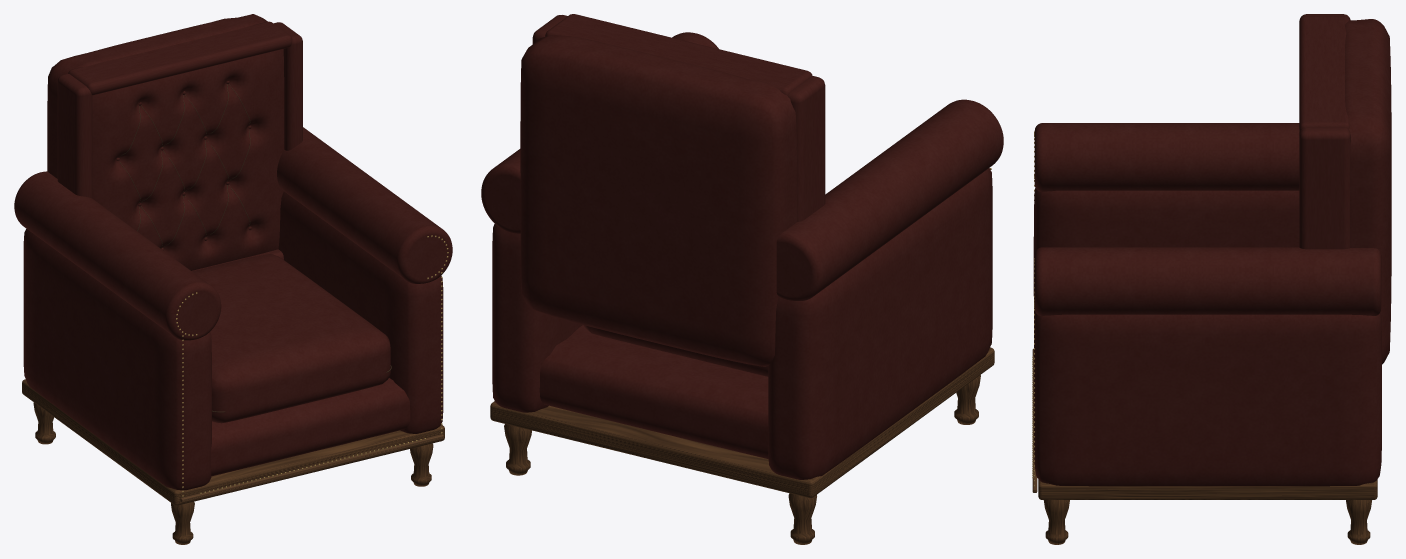
File: dark_academia_poltrona.glb
3 renders of one model, left to right at view 1: azimuth 30°, elevation 25°; view 2: azimuth 150°, elevation 25°; view 3: azimuth 270°, elevation 25°, orthographic. The views are drawn at different scales.
Parts seen in each view (by area): view 1: poltrona; view 2: poltrona; view 3: poltrona.
Part boxes in pixels (x1,y1,x2,y2): poltrona: [14, 14, 452, 544]; poltrona: [481, 14, 1003, 544]; poltrona: [1032, 14, 1391, 544].
Size of the model in its own units: 0.878 by 1.09 by 0.8681.
5 materials, 3 textured.
